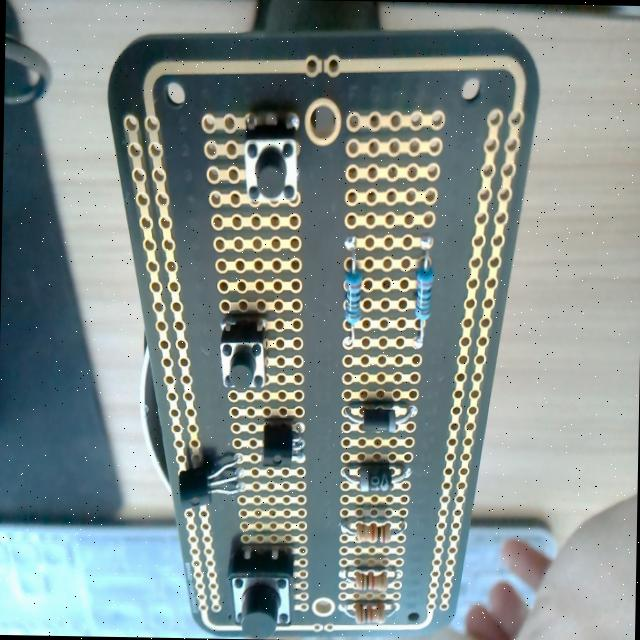diode: (343, 402, 415, 432), (342, 464, 411, 492)
resistor: (412, 238, 436, 348), (340, 236, 362, 346), (337, 562, 403, 594), (340, 521, 406, 546), (339, 599, 400, 622), (342, 434, 412, 452)
switch: (228, 545, 294, 638), (241, 124, 300, 206), (218, 316, 268, 392), (262, 422, 304, 468)
transistor: (178, 452, 247, 512)
